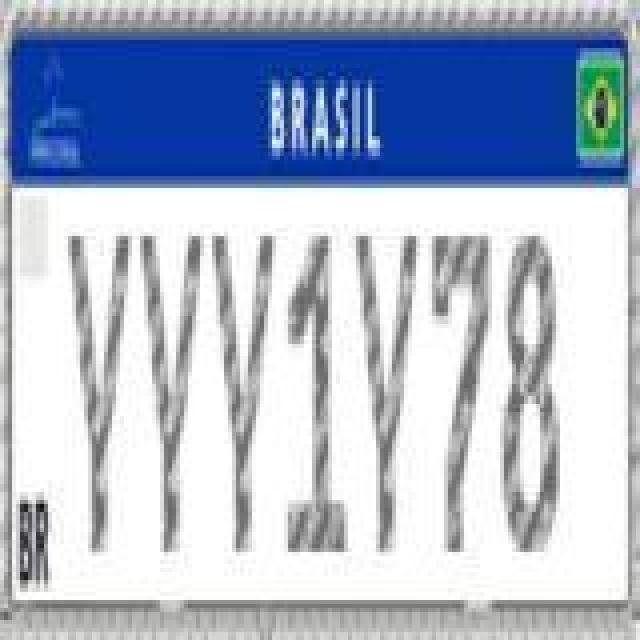1: (284, 228, 348, 556)
7: (428, 230, 492, 554)
8: (500, 226, 564, 558)
Y: (66, 226, 134, 558), (138, 230, 206, 554), (208, 226, 272, 558), (352, 230, 416, 554)
